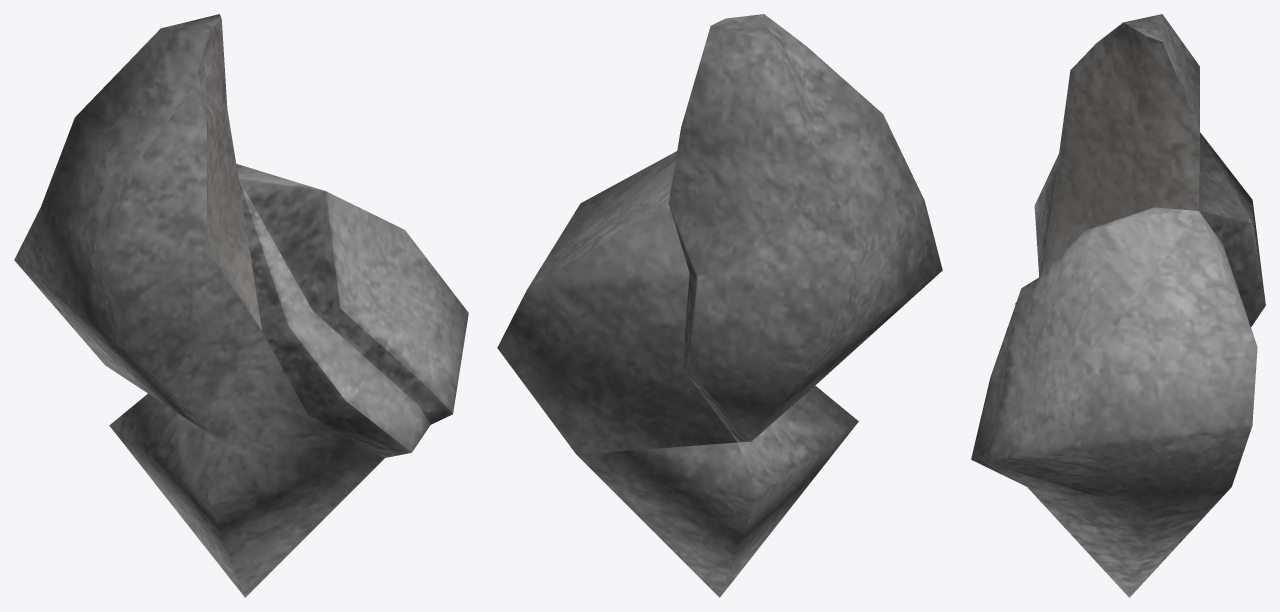
3 renders of one model, left to right at view 1: azimuth 30°, elevation 25°; view 2: azimuth 150°, elevation 25°; view 3: azimuth 270°, elevation 25°, orthographic. The views are drawn at different scales.
Visible parts, largest first — view 1: stone_LOD0; view 2: stone_LOD0; view 3: stone_LOD0.
Boxes of the visible parts, x1,y1,x2,y2 form: stone_LOD0: [14, 14, 468, 597]; stone_LOD0: [497, 14, 942, 597]; stone_LOD0: [971, 14, 1265, 597].
Size of what is drawn, in the model's own units: 266 by 398 by 191.
